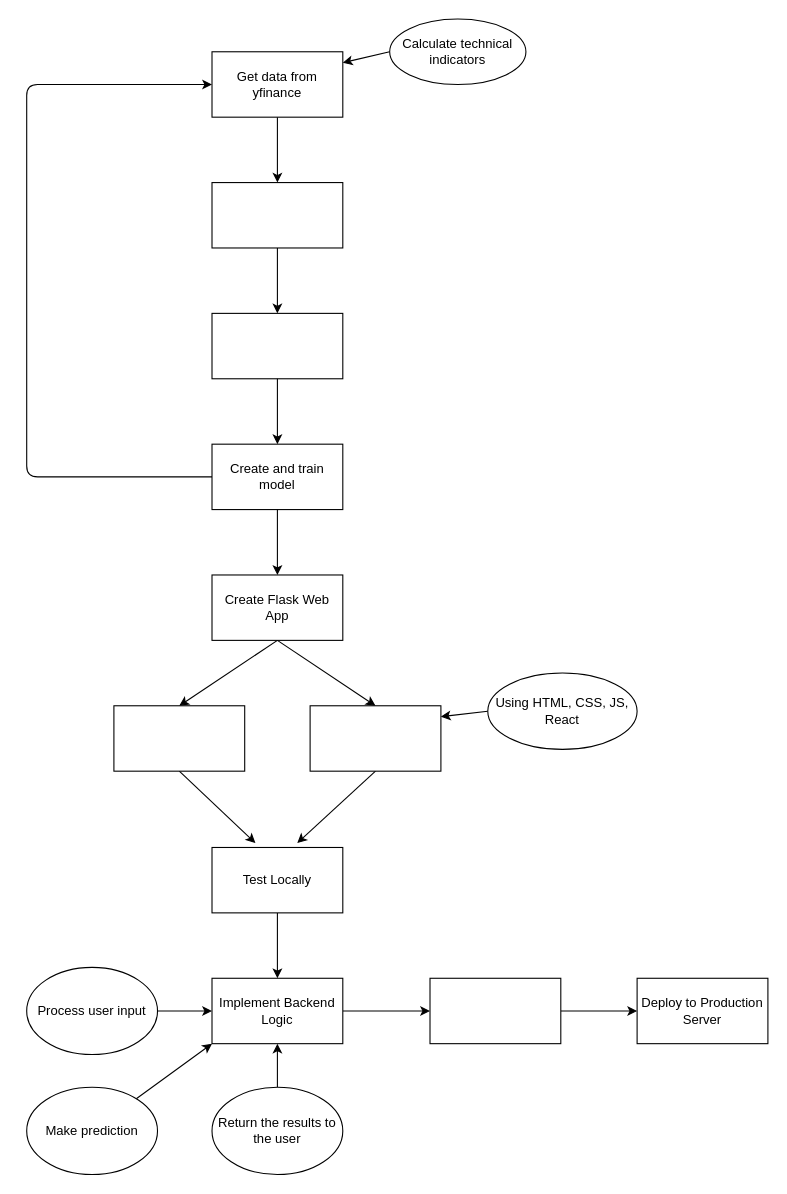
Image size: 787x1194. Some labels were removed from this diagram. The box of each missing label's shape, as (x1, y1, x2, y2) in pixels:
Deploy to a Development Server: (429, 977, 561, 1044)
Implement UI in Flask: (309, 705, 441, 771)
Integrate ML model: (113, 705, 245, 771)
Preprocess data for training: (211, 312, 343, 379)
Send data to sqlite database: (211, 181, 343, 248)
